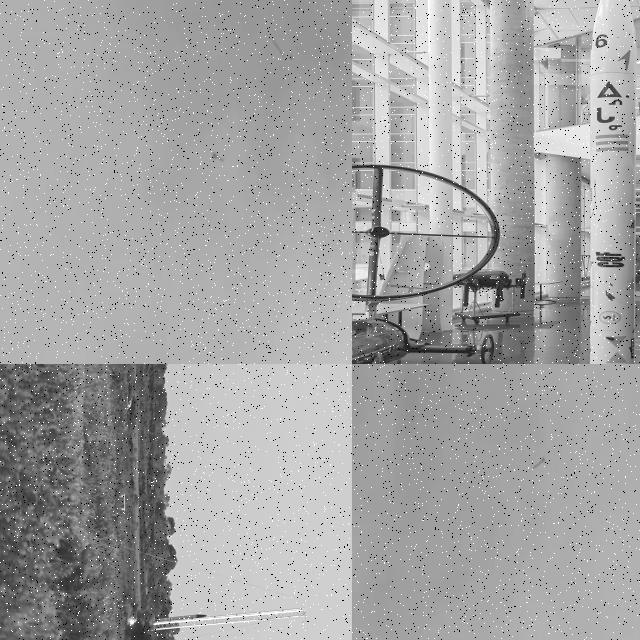Rocket: (590, 0, 637, 364), (153, 614, 207, 623), (532, 457, 546, 471), (212, 153, 224, 161)
